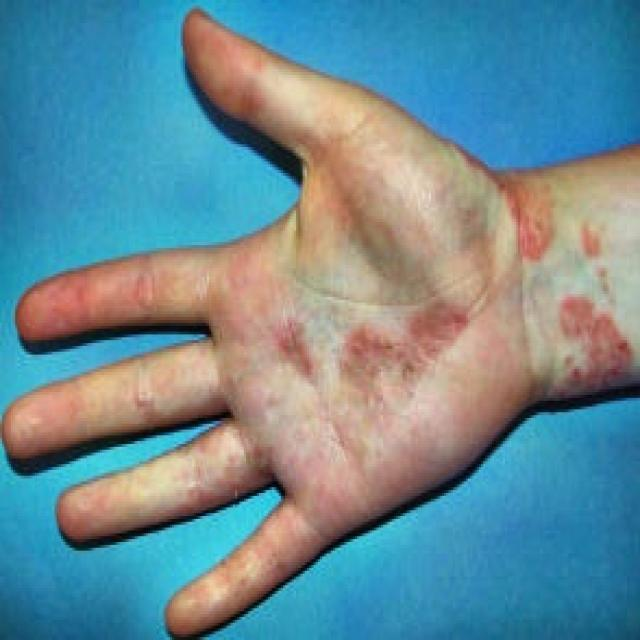Eczema: (496, 148, 640, 398), (284, 288, 471, 401), (514, 207, 531, 211)
